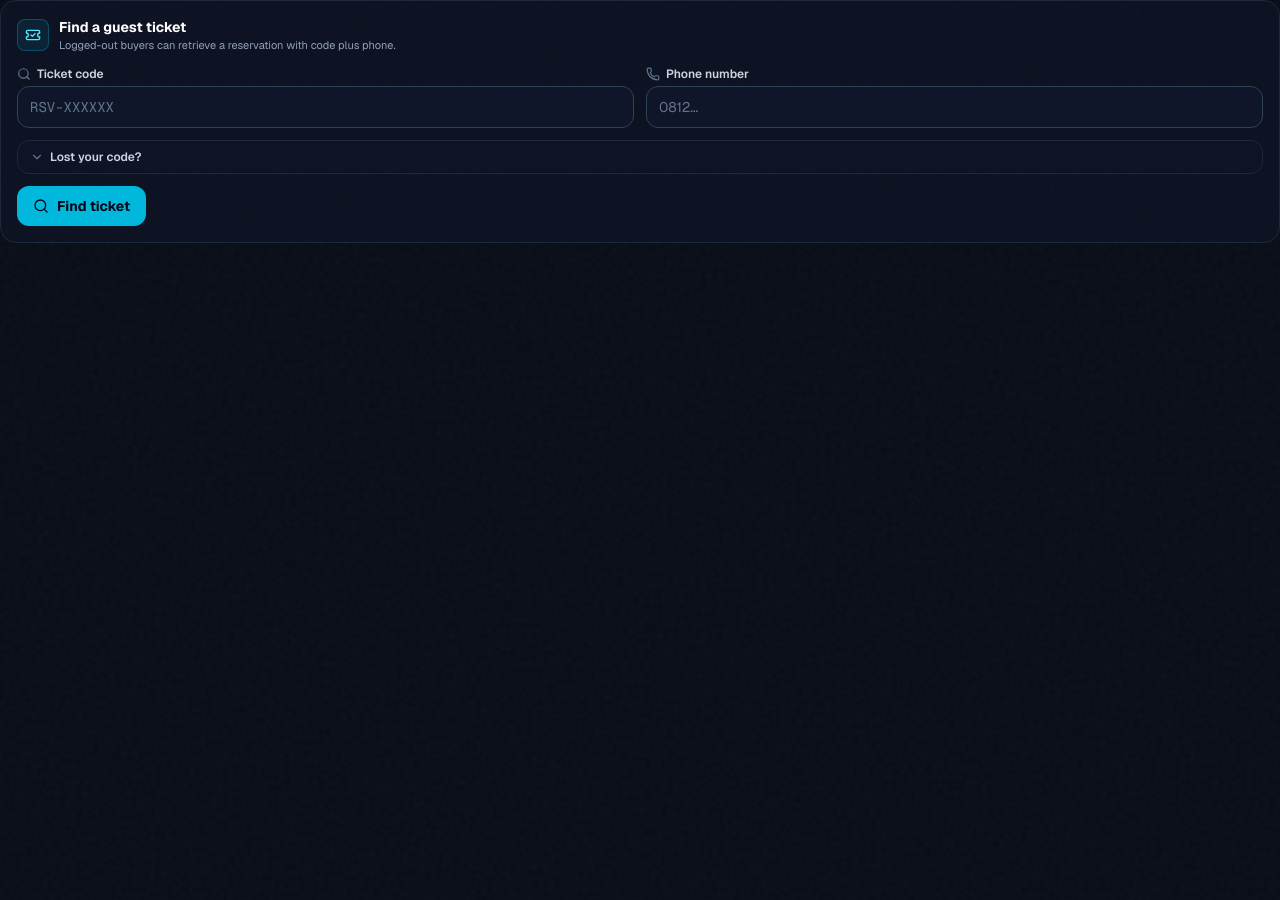
Test case: GuestTicketLookup › blocks search without a code and without support details
In the field labelled "Phone number": (954, 106) [646,86,1263,128], type "081234567890"
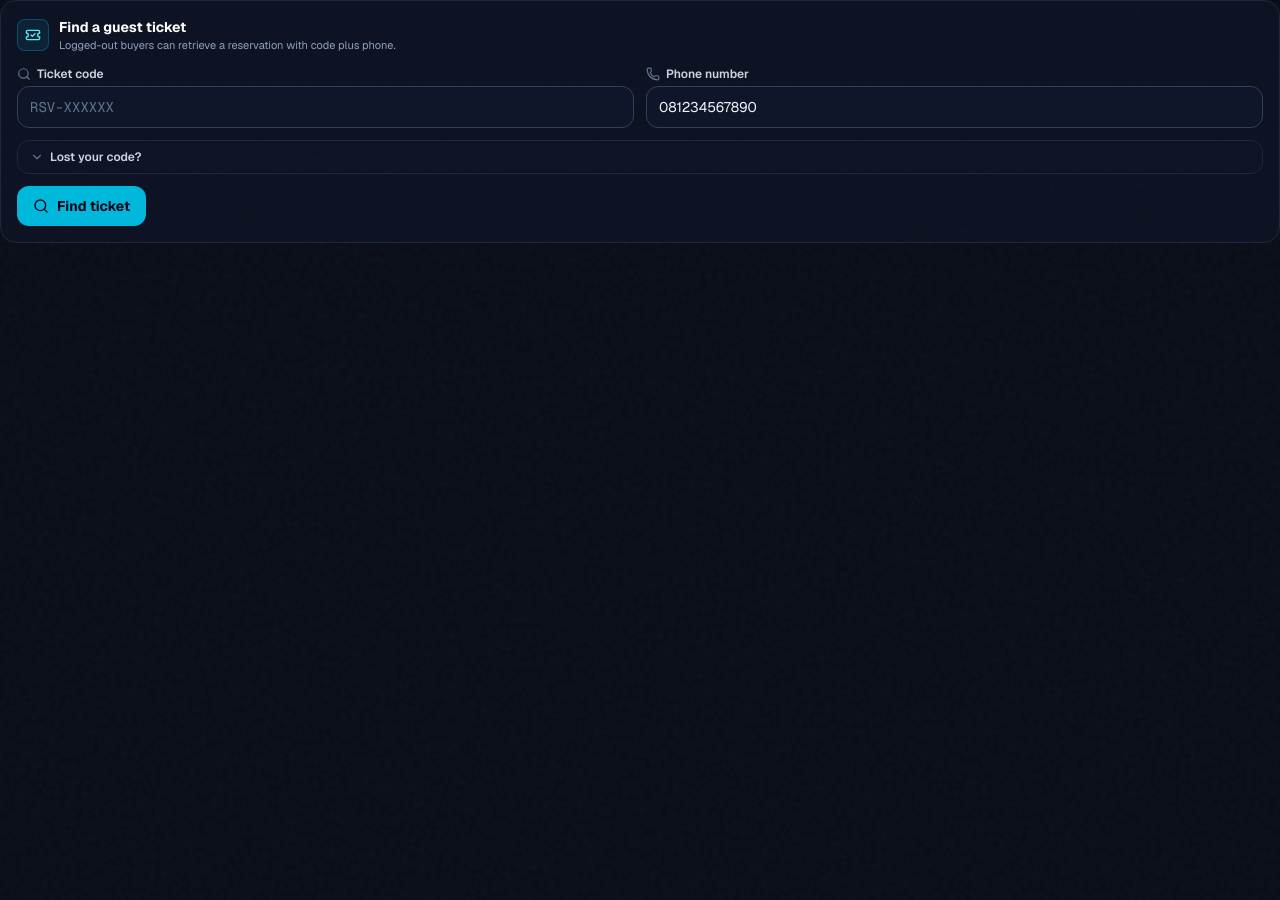
Click the button "Find ticket": (82, 206) [17,186,146,226]
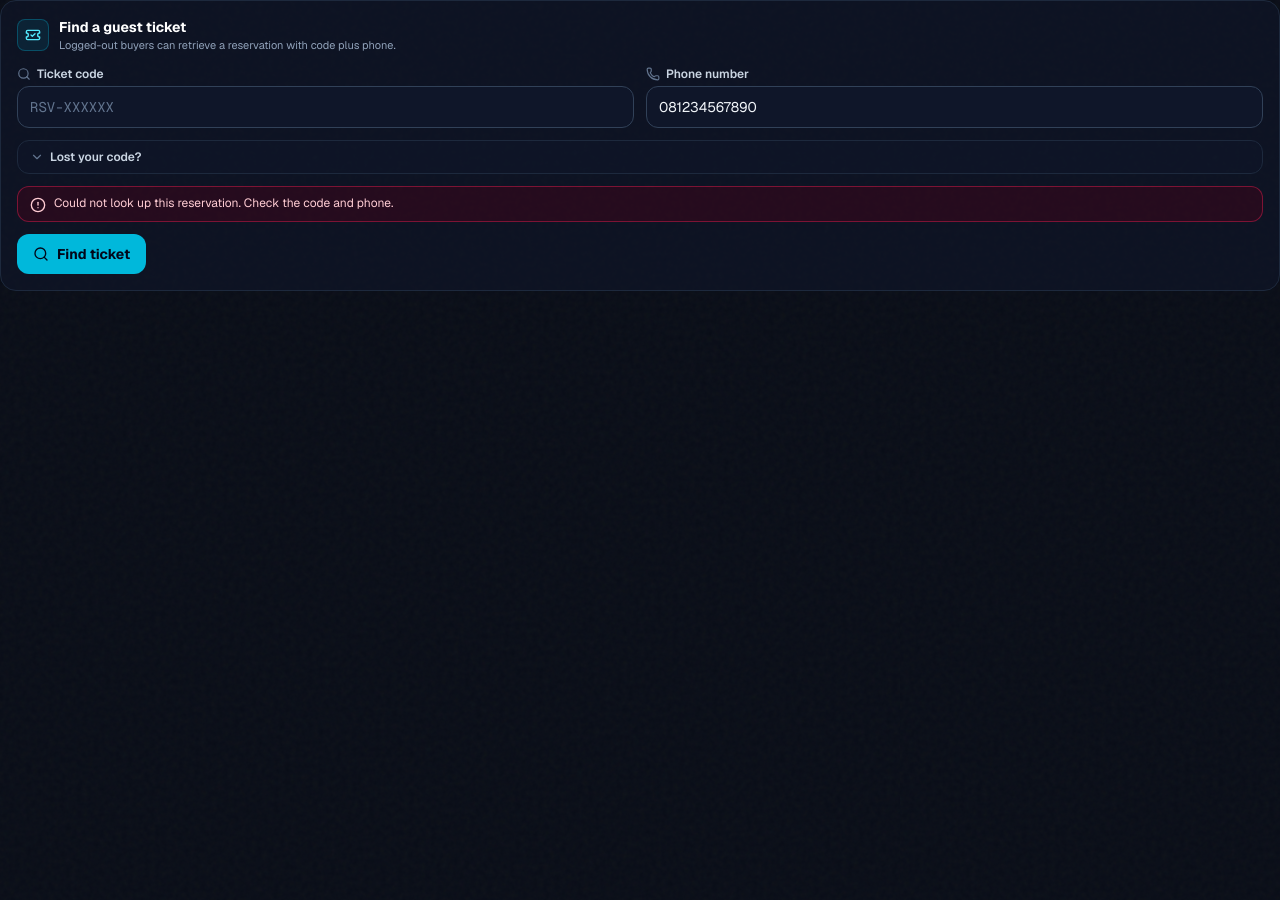
expect the message "Could not look up this reservation. Check the code and phone." is shown: met, box [17,186,1263,222]
